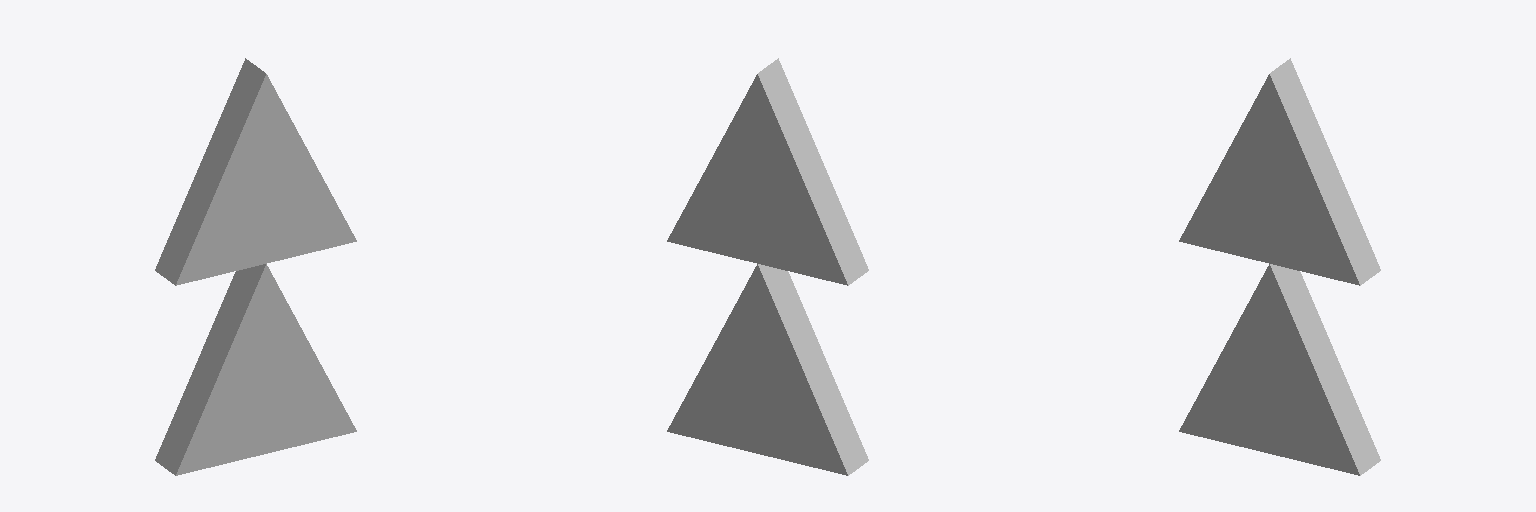
File: SpeedUp 1.obj
The picture shows the model from 3 angles: view 1: azimuth 30°, elevation 25°; view 2: azimuth 150°, elevation 25°; view 3: azimuth 330°, elevation 25°; orthographic projection.
Parts seen in each view (by area): view 1: mergedBlocks; view 2: mergedBlocks; view 3: mergedBlocks.
Boxes of the visible parts, <box> form: mergedBlocks: <box>155,58,356,475</box>; mergedBlocks: <box>667,58,868,475</box>; mergedBlocks: <box>1179,58,1380,475</box>.
Size of the model in its own units: 1 by 2 by 0.2.